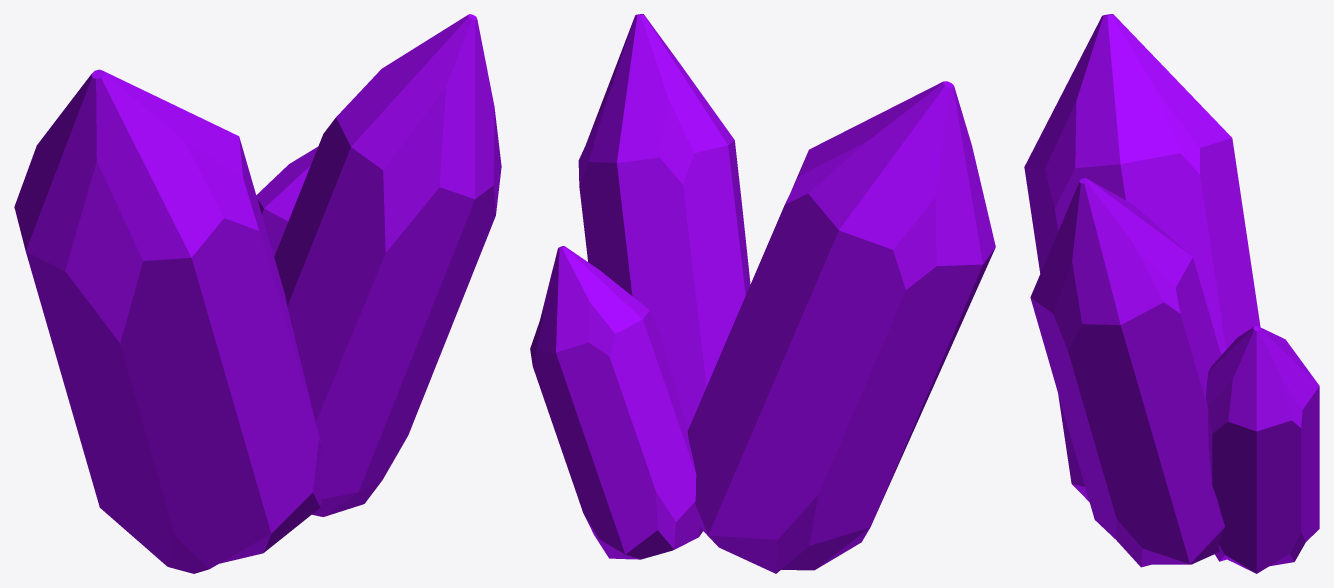
Rendered from SmallPurpleCrystalCluster.fbx.
The picture shows the model from 3 angles, left to right: view 1: azimuth 30°, elevation 25°; view 2: azimuth 150°, elevation 25°; view 3: azimuth 270°, elevation 25°; orthographic projection. The views are drawn at different scales.
Visible parts, largest first — view 1: SmallCrystalCluster; view 2: SmallCrystalCluster; view 3: SmallCrystalCluster.
Part boxes in pixels (x1,y1,x2,y2): SmallCrystalCluster: [14, 14, 501, 573]; SmallCrystalCluster: [530, 14, 995, 573]; SmallCrystalCluster: [1024, 14, 1319, 573].
Bounding box in the file's own units: 264 × 296 × 174.
